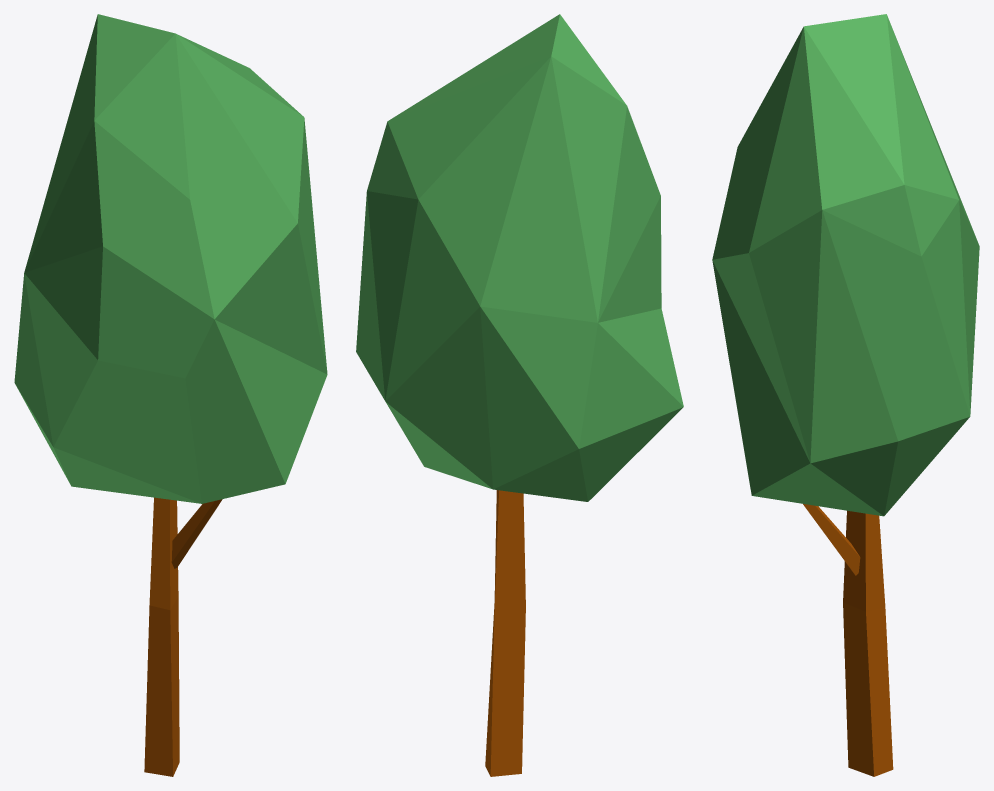
Rendered from tree_01.fbx.
3 renders of one model, left to right at view 1: azimuth 30°, elevation 25°; view 2: azimuth 150°, elevation 25°; view 3: azimuth 270°, elevation 25°, orthographic. The views are drawn at different scales.
Parts seen in each view (by area): view 1: tree_01; view 2: tree_01; view 3: tree_01.
Part boxes in pixels (x1,y1,x2,y2): tree_01: (14,14,327,776); tree_01: (356,14,683,776); tree_01: (712,14,979,776).
Bounding box in the file's own units: 47.7 × 121 × 40.11.
